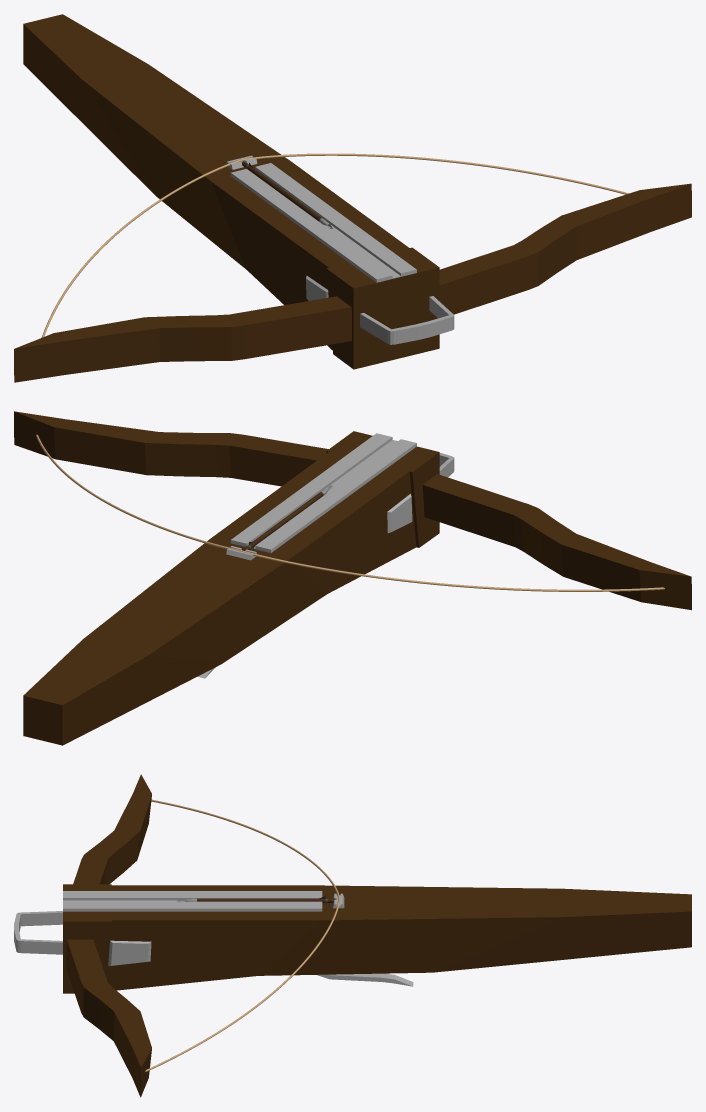
Rendered from crossbow.fbx.
The picture shows the model from 3 angles, top to bottom: view 1: azimuth 30°, elevation 25°; view 2: azimuth 150°, elevation 25°; view 3: azimuth 270°, elevation 25°; orthographic projection. The views are drawn at different scales.
Visible parts, largest first — view 1: rope, bolt; view 2: rope, bolt; view 3: rope, bolt.
Part boxes in pixels (box(x1,y1,x2,y2)): rope: box(14, 14, 691, 382); bolt: box(242, 161, 332, 228); rope: box(14, 411, 691, 745); bolt: box(242, 485, 332, 550); rope: box(14, 774, 691, 1097); bolt: box(177, 896, 335, 904).
Bounding box in the file's own units: 339 × 47.52 × 331.
